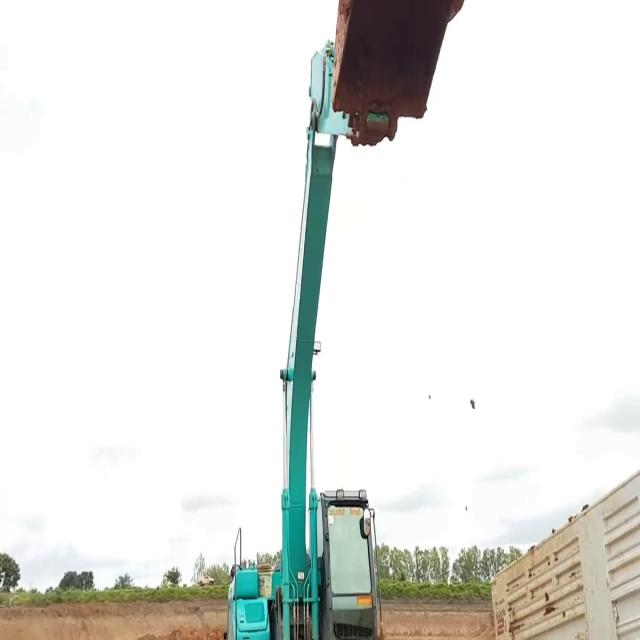excavator: (219, 3, 470, 640)
